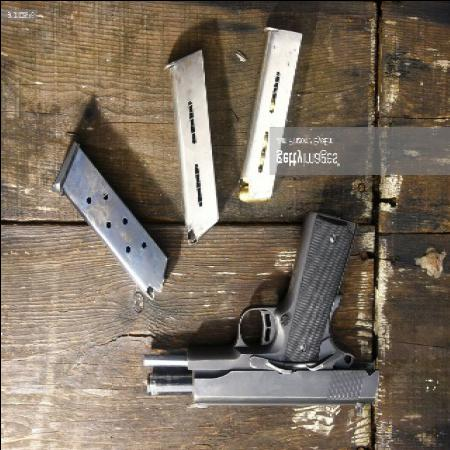Pistol: (138, 215, 382, 411)
